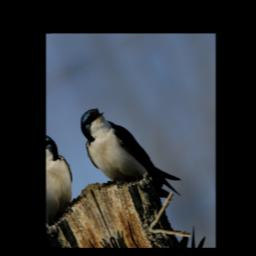Swallow: (73, 84, 188, 229)
